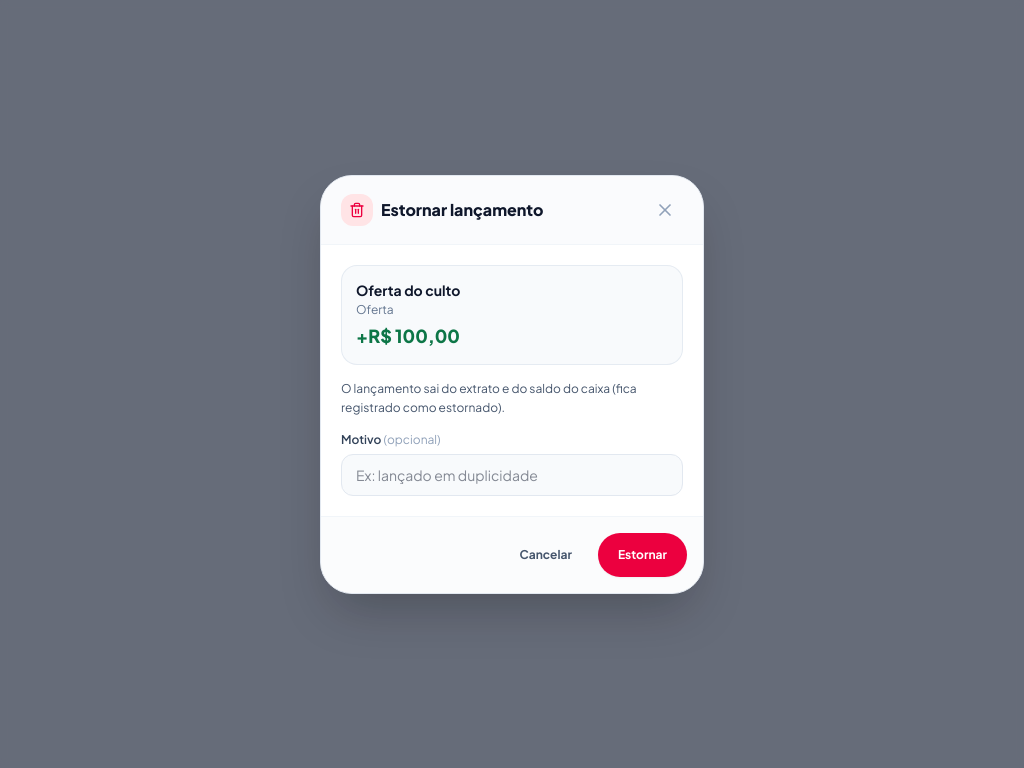
Test: VoidEntryDialog › usa o motivo padrão quando vazio e mostra o erro sem fechar
Click the button "Estornar" at (642, 554), box [598,532,687,576]
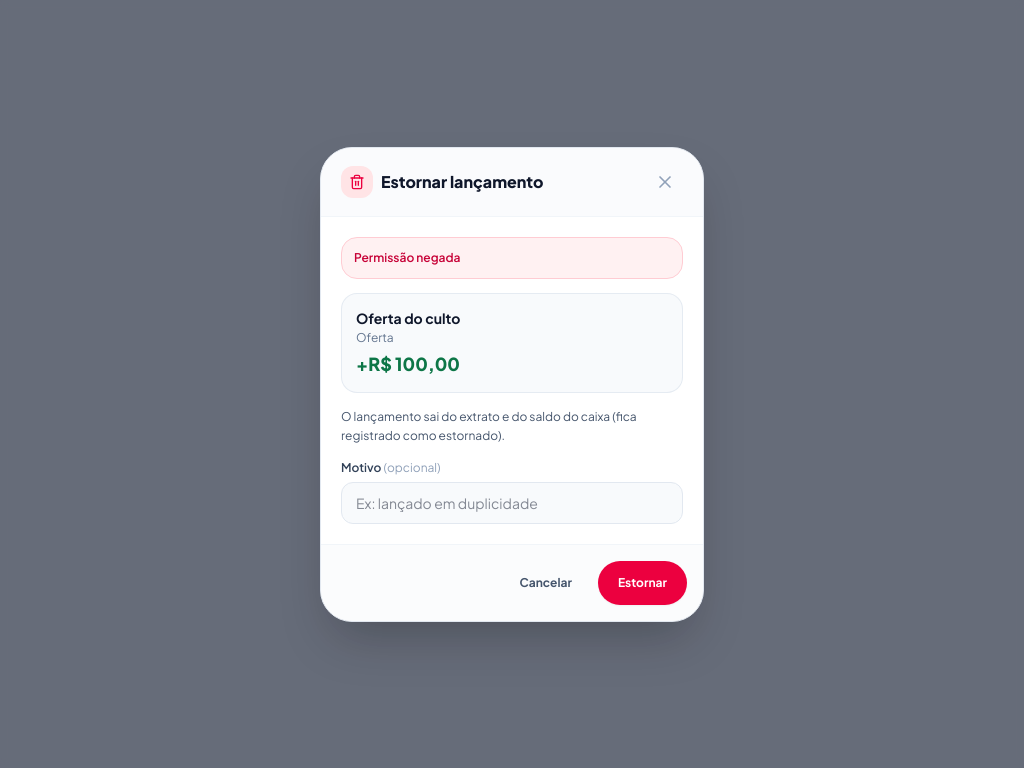
Result: the text "Permissão negada" is shown at [341,236,683,278]
